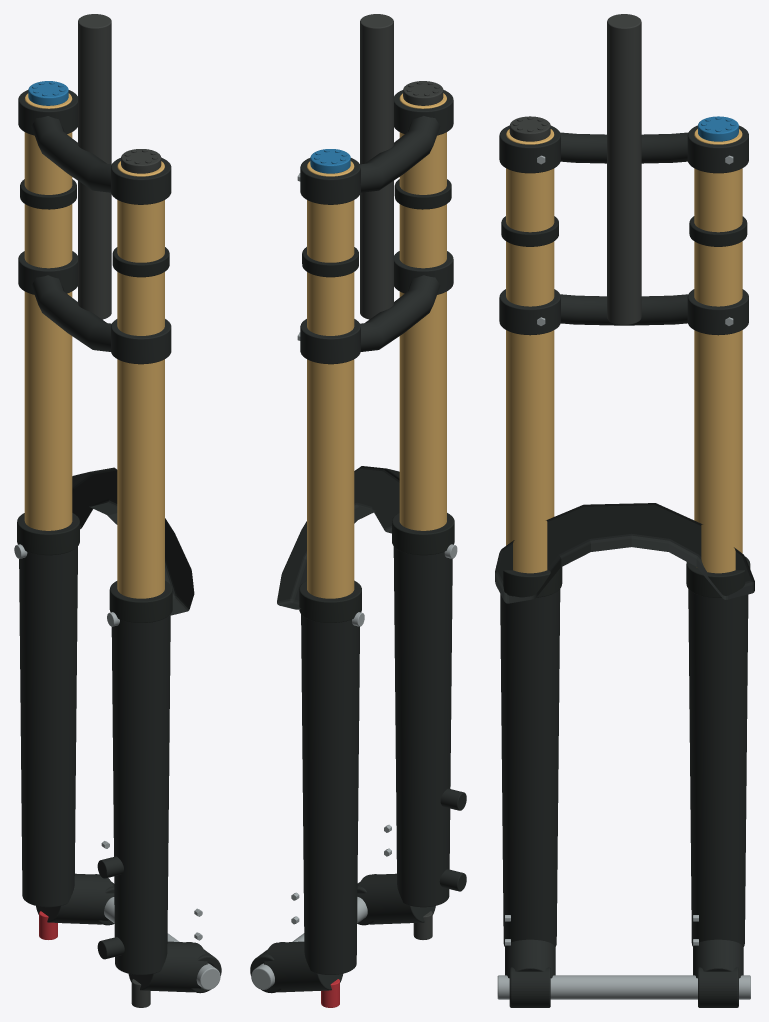
Rendered from fox-40-my27.glb.
The picture shows the model from 3 angles, left to right: view 1: azimuth 30°, elevation 25°; view 2: azimuth 150°, elevation 25°; view 3: azimuth 270°, elevation 25°; orthographic projection.
Parts seen in each view (by area): view 1: fox-40-my27__lowers, fox-40-my27__stanchions, fox-40-my27__link, fox-40-my27__protection, fox-40-my27__bolts, fox-40-my27__adjuster; view 2: fox-40-my27__lowers, fox-40-my27__stanchions, fox-40-my27__link, fox-40-my27__protection, fox-40-my27__bolts, fox-40-my27__adjuster; view 3: fox-40-my27__lowers, fox-40-my27__stanchions, fox-40-my27__link, fox-40-my27__protection, fox-40-my27__bolts, fox-40-my27__adjuster.
Part boxes in pixels (x1,y1,x2,y2): fox-40-my27__lowers: [18, 90, 221, 993]; fox-40-my27__stanchions: [24, 93, 164, 598]; fox-40-my27__link: [78, 14, 161, 1007]; fox-40-my27__protection: [17, 179, 172, 622]; fox-40-my27__bolts: [14, 544, 220, 989]; fox-40-my27__adjuster: [28, 81, 68, 105]; fox-40-my27__lowers: [250, 90, 466, 993]; fox-40-my27__stanchions: [307, 93, 446, 598]; fox-40-my27__link: [360, 14, 443, 939]; fox-40-my27__protection: [299, 179, 454, 622]; fox-40-my27__bolts: [251, 173, 457, 989]; fox-40-my27__adjuster: [310, 149, 350, 173]; fox-40-my27__lowers: [495, 125, 754, 1007]; fox-40-my27__stanchions: [506, 129, 742, 573]; fox-40-my27__link: [509, 14, 641, 324]; fox-40-my27__protection: [501, 216, 750, 597]; fox-40-my27__bolts: [497, 155, 750, 999]; fox-40-my27__adjuster: [698, 116, 738, 141].
Size of the model in its own units: 0.107 by 0.882 by 0.2155.
